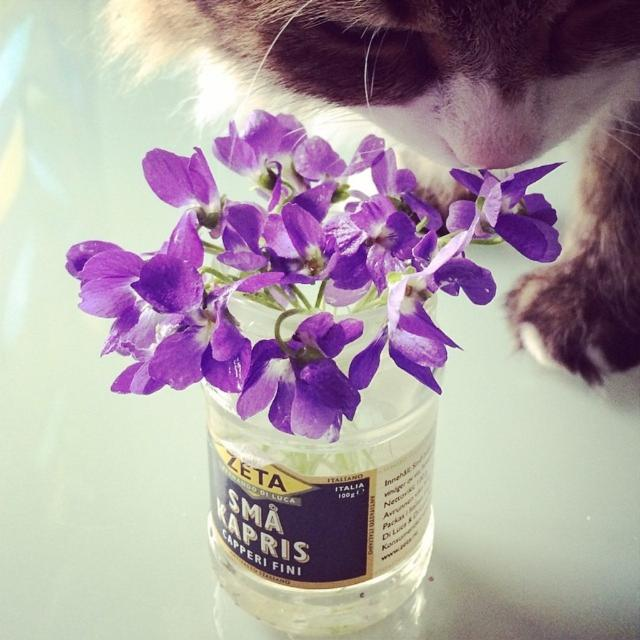Flower: (67, 112, 500, 442), (434, 138, 570, 260)
